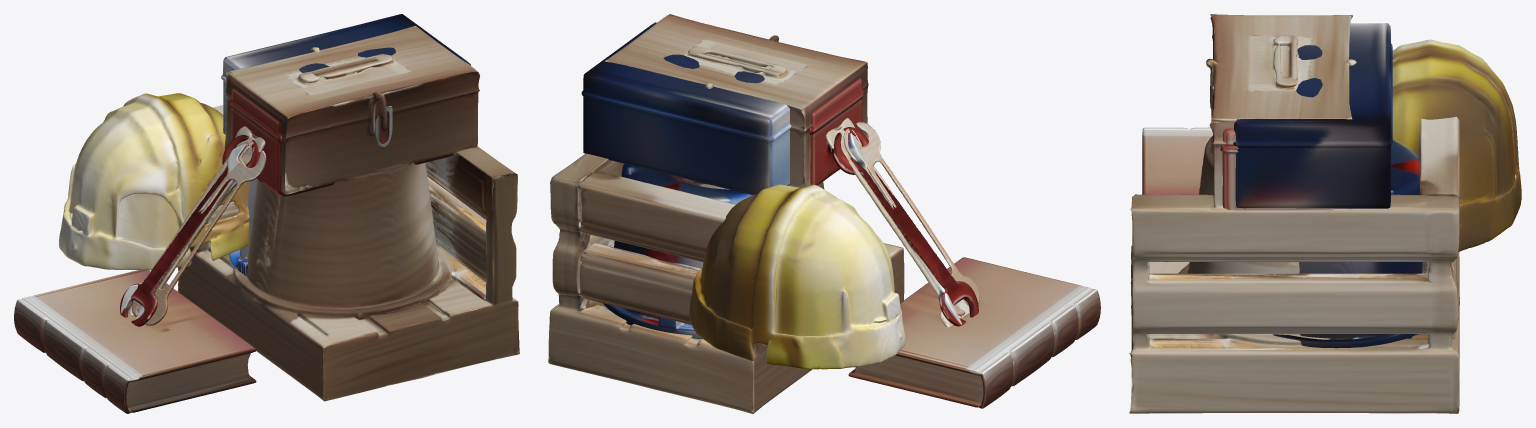
Rendered from midi_textured.glb.
3 views of the same model, side by side, from view 1: azimuth 30°, elevation 25°; view 2: azimuth 150°, elevation 25°; view 3: azimuth 270°, elevation 25° (orthographic). The views are drawn at different scales.
Parts seen in each view (by area): view 1: geometry_00c7b7476902a, geometry_055ec077187b1, geometry_0536faf726062, geometry_0, geometry_0ca5f65dd4d61, geometry_040a930968a76; view 2: geometry_00c7b7476902a, geometry_055ec077187b1, geometry_0ca5f65dd4d61, geometry_0536faf726062, geometry_0, geometry_040a930968a76; view 3: geometry_00c7b7476902a, geometry_0ca5f65dd4d61, geometry_055ec077187b1, geometry_0536faf726062, geometry_0.
Part boxes in pixels (x1=…): geometry_00c7b7476902a: x1=128, y1=26, x2=519, y2=401; geometry_055ec077187b1: x1=59, y1=93, x2=249, y2=270; geometry_0536faf726062: x1=14, y1=141, x2=266, y2=413; geometry_0: x1=120, y1=88, x2=453, y2=326; geometry_0ca5f65dd4d61: x1=221, y1=14, x2=470, y2=275; geometry_040a930968a76: x1=120, y1=143, x2=254, y2=318; geometry_00c7b7476902a: x1=548, y1=14, x2=969, y2=413; geometry_055ec077187b1: x1=689, y1=184, x2=905, y2=369; geometry_0ca5f65dd4d61: x1=581, y1=22, x2=791, y2=338; geometry_0536faf726062: x1=843, y1=122, x2=1100, y2=408; geometry_0: x1=788, y1=77, x2=978, y2=326; geometry_040a930968a76: x1=848, y1=130, x2=963, y2=325; geometry_00c7b7476902a: x1=1129, y1=14, x2=1459, y2=413; geometry_0ca5f65dd4d61: x1=1233, y1=23, x2=1422, y2=348; geometry_055ec077187b1: x1=1392, y1=39, x2=1521, y2=251; geometry_0536faf726062: x1=1142, y1=127, x2=1212, y2=194; geometry_0: x1=1211, y1=85, x2=1335, y2=210.
Bounding box in the file's own units: 1.91 × 1.22 × 1.46.
6 materials, 6 textured.
